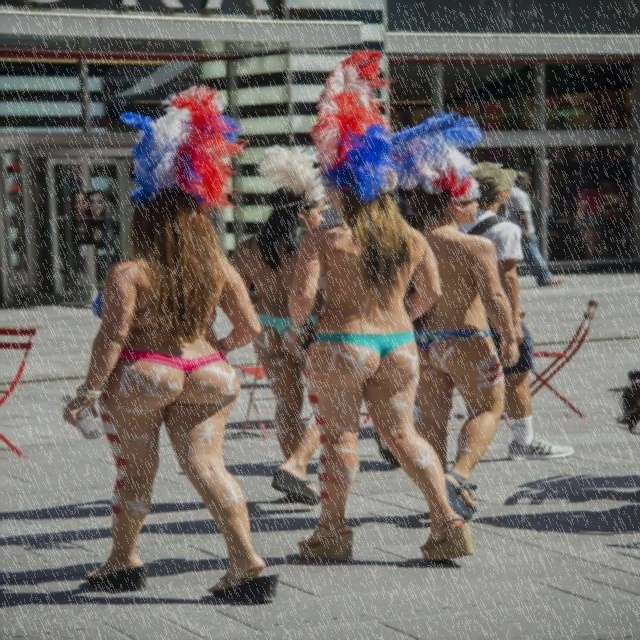pessoa: (61, 82, 280, 604), (288, 162, 468, 564), (406, 164, 522, 521), (228, 143, 334, 507), (452, 161, 576, 463), (465, 86, 635, 161), (506, 171, 564, 287), (568, 176, 623, 262), (374, 398, 420, 476), (606, 368, 640, 442), (600, 177, 631, 258), (68, 190, 114, 244), (356, 508, 437, 528)
